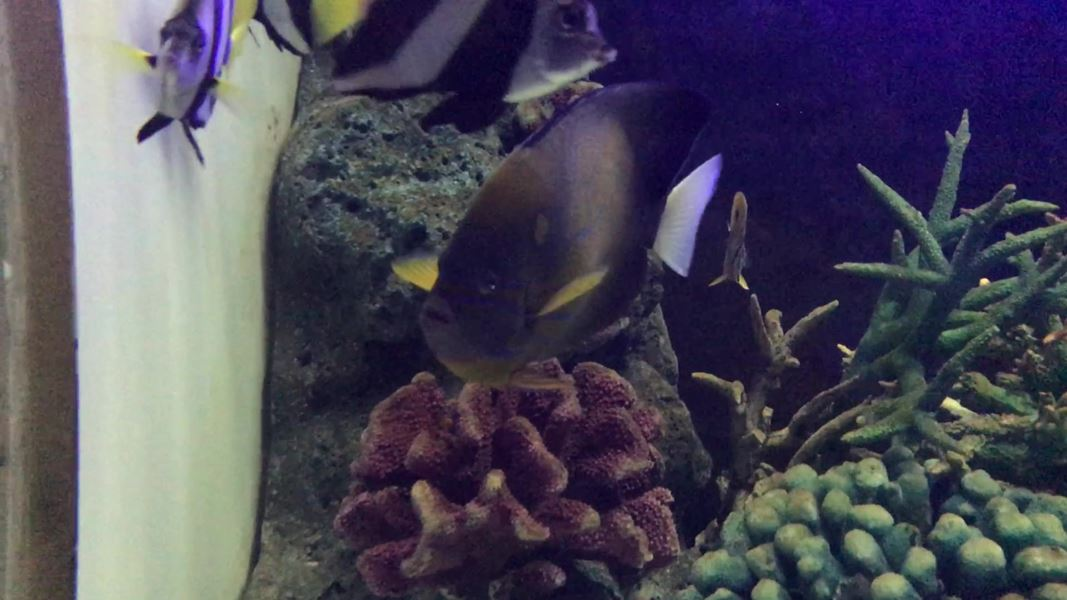Blue ring angelfish: (399, 61, 742, 424)
